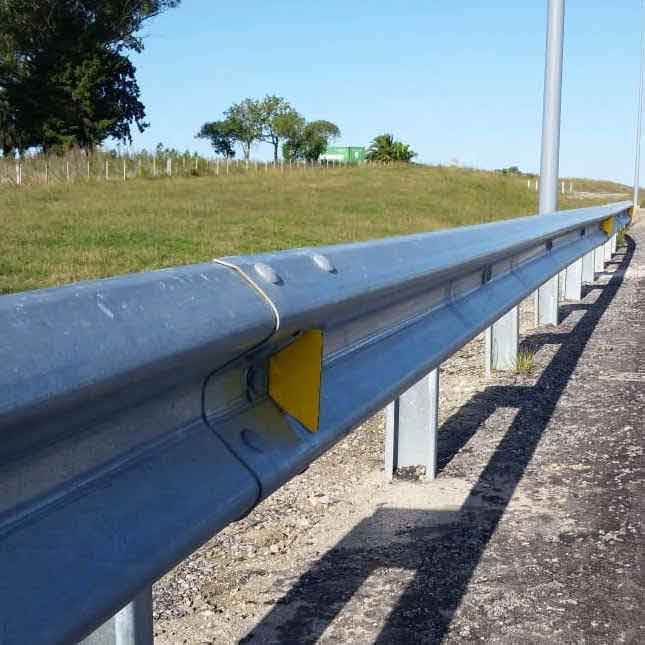not_damaged: (21, 113, 644, 509)
